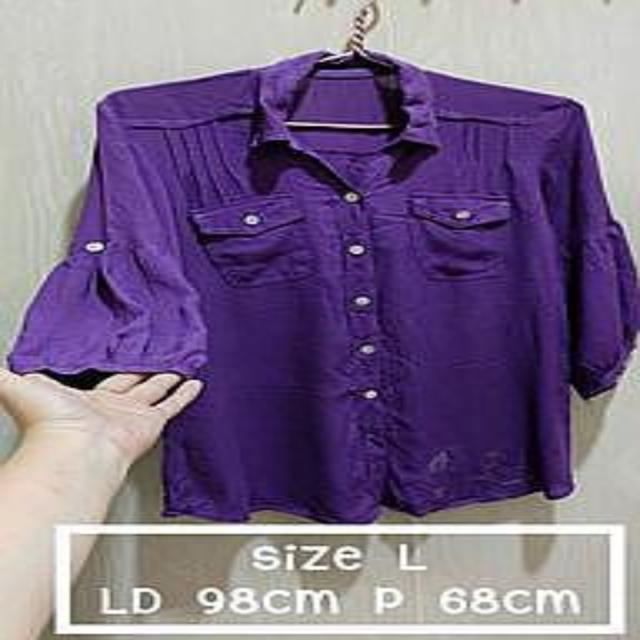T_SHIRT: (0, 42, 640, 523)
